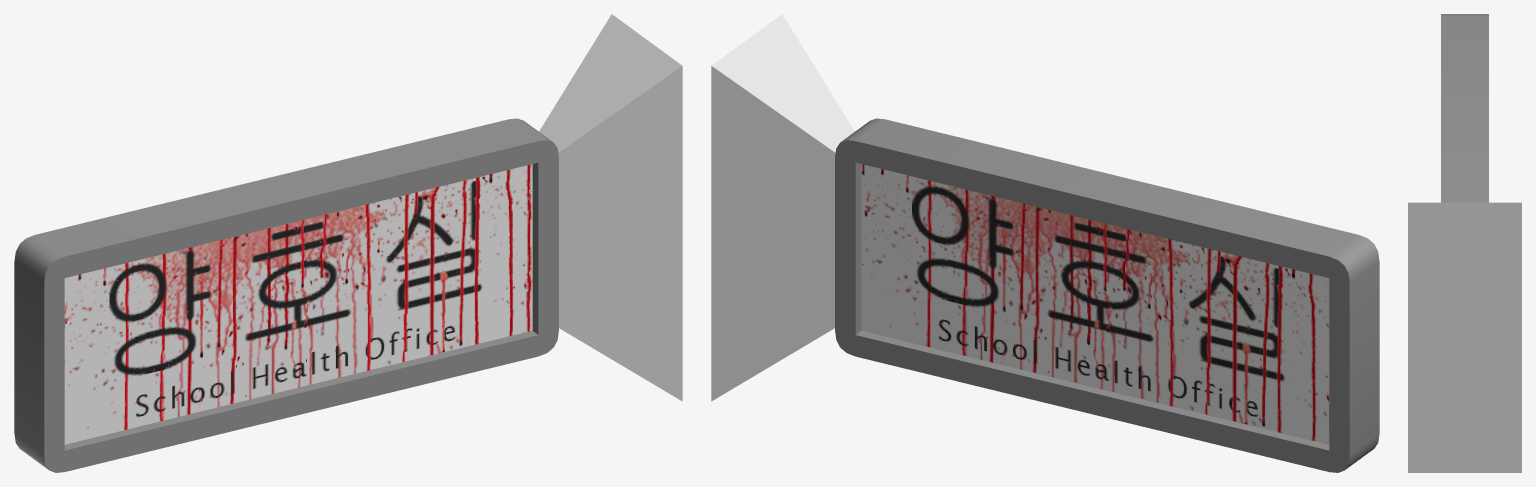
Rendered from HealthOffice.fbx.
3 views of the same model, side by side, from view 1: azimuth 30°, elevation 25°; view 2: azimuth 150°, elevation 25°; view 3: azimuth 270°, elevation 25° (orthographic). The views are drawn at different scales.
Parts seen in each view (by area): view 1: Box001, Box002; view 2: Box001, Box002; view 3: Box002, Box001.
Part boxes in pixels (x1,y1,x2,y2): Box001: (14, 118, 558, 472); Box002: (539, 14, 682, 401); Box001: (835, 118, 1379, 472); Box002: (711, 14, 854, 401); Box002: (1408, 202, 1521, 472); Box001: (1441, 14, 1488, 202).
Size of the model in its own units: 60 by 31.16 by 11.9.
2 materials, 1 textured.
